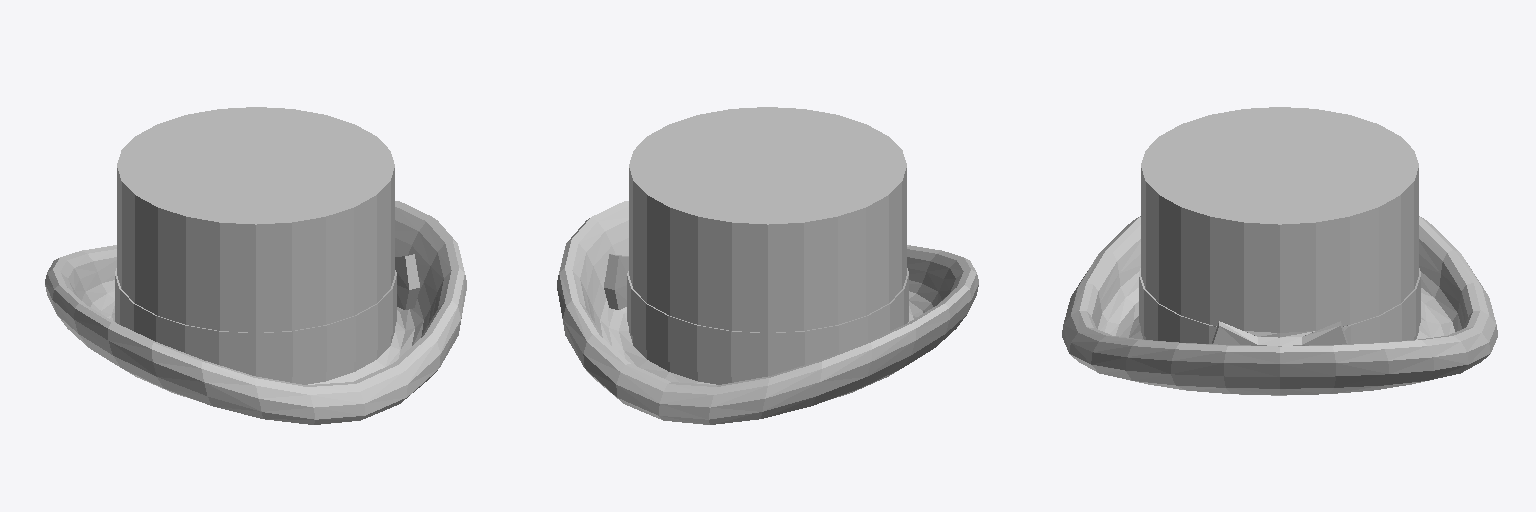
The model's file is Hat.obj.
The picture shows the model from 3 angles: view 1: azimuth 30°, elevation 25°; view 2: azimuth 150°, elevation 25°; view 3: azimuth 270°, elevation 25°; orthographic projection.
Visible parts, largest first — view 1: loftedSurface3, loftedSurface4; view 2: loftedSurface3, loftedSurface4; view 3: loftedSurface3, loftedSurface4.
Part boxes in pixels (x1,y1,x2,y2): loftedSurface3: (115, 107, 419, 384); loftedSurface4: (45, 201, 466, 424); loftedSurface3: (604, 107, 908, 384); loftedSurface4: (557, 201, 978, 424); loftedSurface3: (1139, 107, 1420, 345); loftedSurface4: (1062, 216, 1497, 395).
Size of the model in its own units: 6.89 by 3.26 by 7.16.